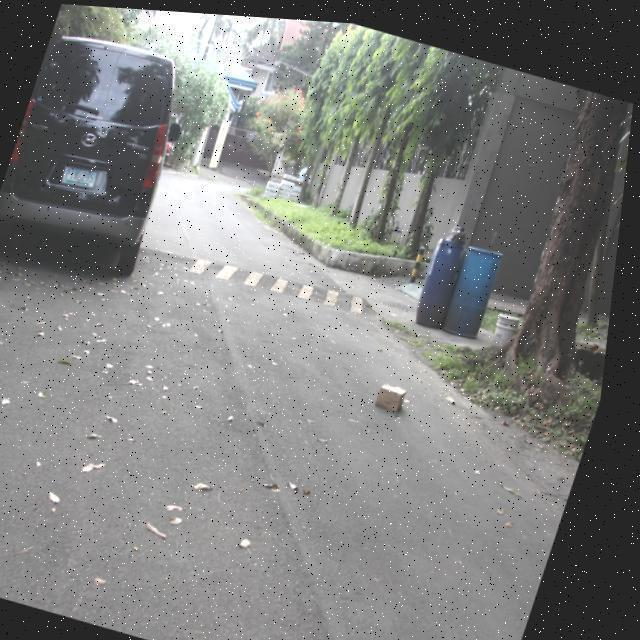Paper_Bag: (382, 374, 417, 407)
